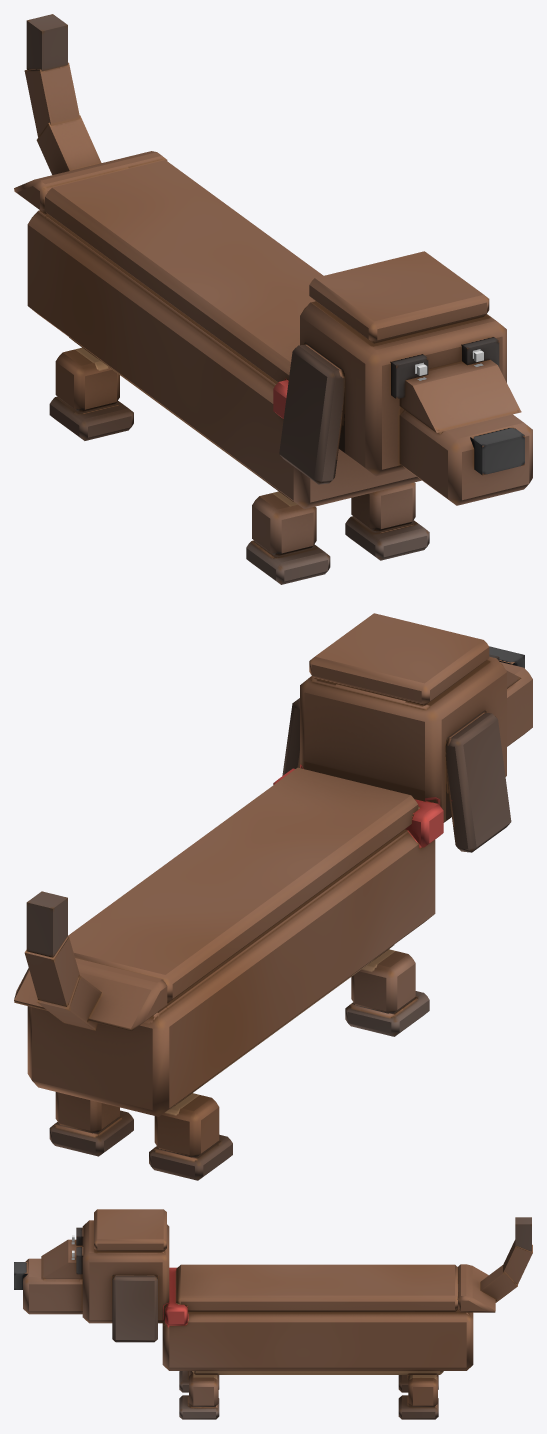
The model's file is ChienSaucisse_Rig.fbx.
3 views of the same model, one above another, from view 1: azimuth 30°, elevation 25°; view 2: azimuth 150°, elevation 25°; view 3: azimuth 270°, elevation 25° (orthographic). The views are drawn at different scales.
Visible parts, largest first — view 1: Body, Head, Tail, LegFR, LegBR, LegFL; view 2: Body, Head, Tail, LegBR, LegFR, LegBL; view 3: Body, Head, Tail, LegFL, LegBL.
Part boxes in pixels (x1,y1,x2,y2): Body: (14,151,421,509); Head: (279,251,532,505); Tail: (24,14,101,174); LegFR: (246,491,330,584); LegBR: (49,347,133,440); LegFL: (345,482,429,560); Body: (14,767,443,1116); Head: (282,613,532,852); Tail: (24,891,101,1030); LegBR: (149,1093,232,1180); LegFR: (345,949,429,1036); LegBL: (49,1092,133,1156); Body: (162,1264,495,1374); Head: (14,1209,169,1342); Tail: (480,1217,532,1302); LegFL: (179,1373,219,1419); LegBL: (398,1375,438,1419).
Size of the model in its own units: 3.86 by 6 by 15.73.
Materials: 1 (1 with a texture image).
